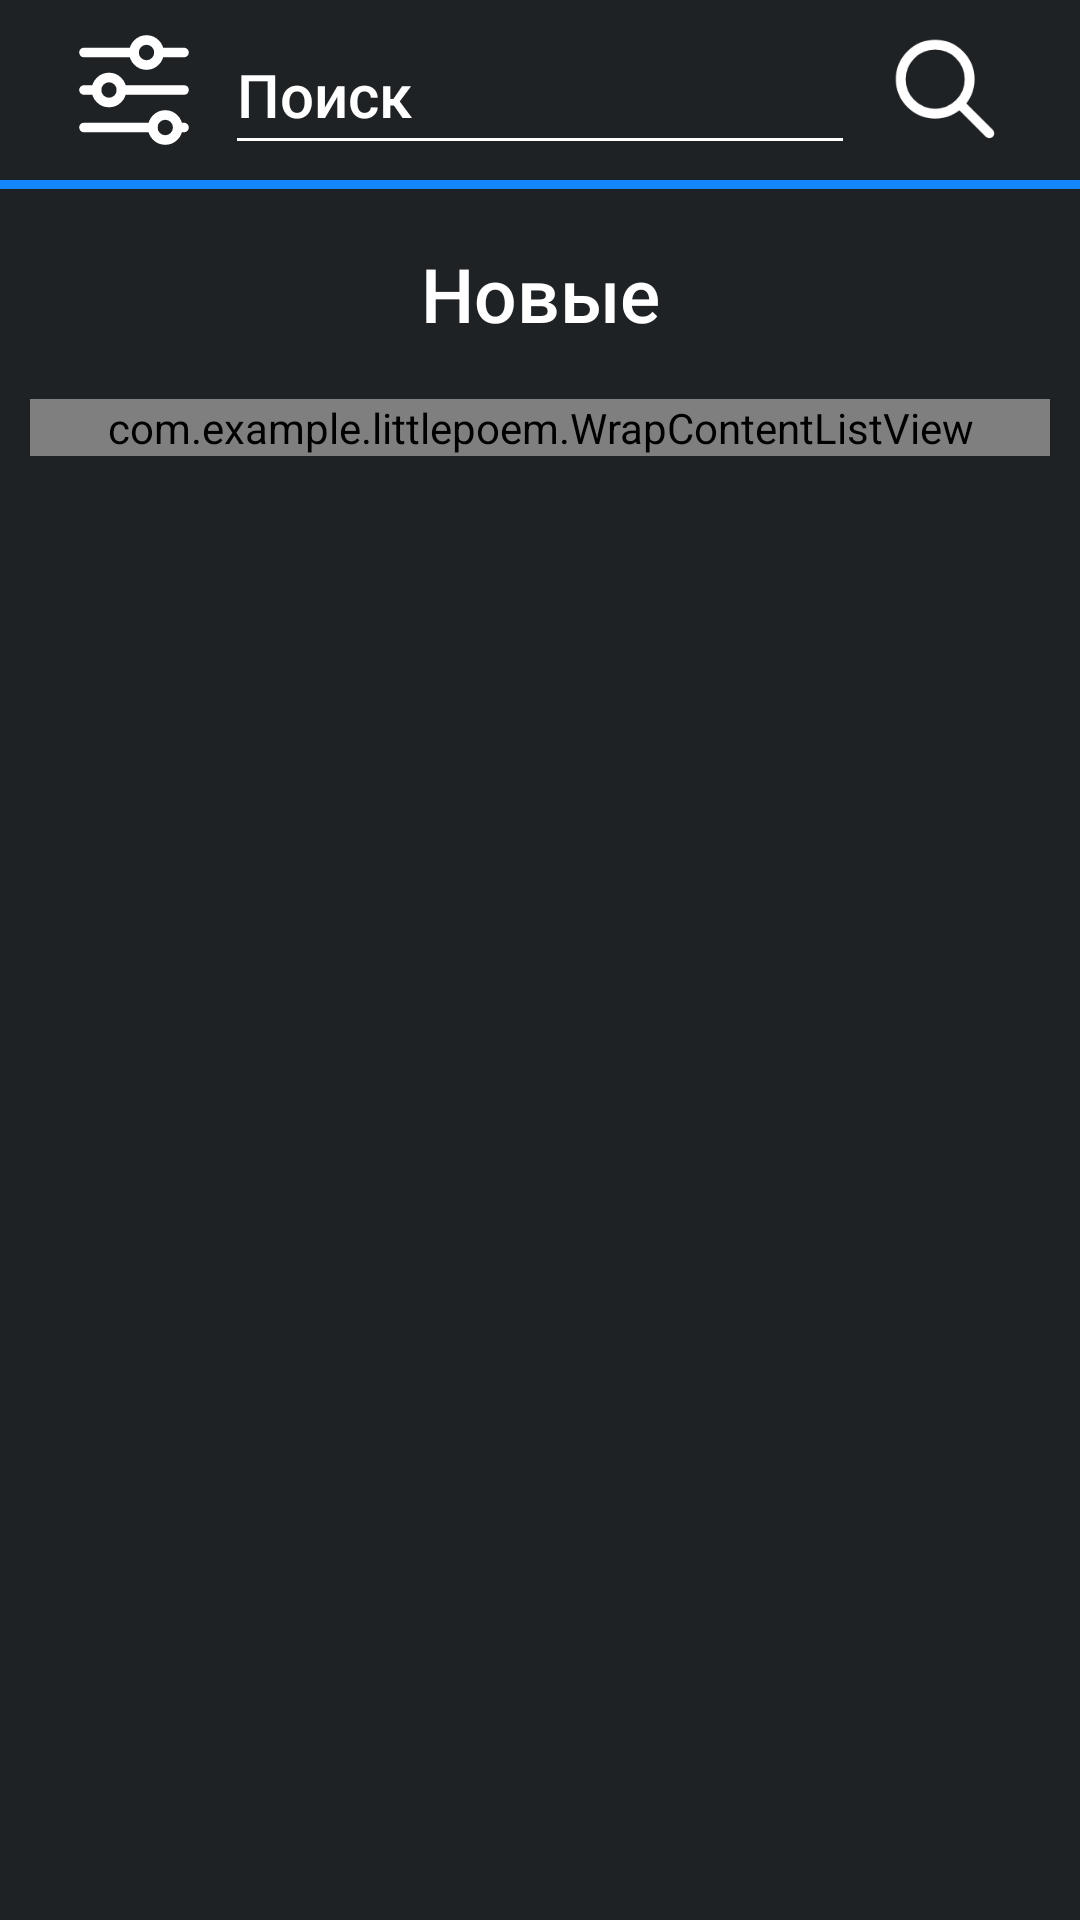

Icons on this 1080px x 1920px Android screen, each with its box as Rect(x1, y1, x2, y2):
filter: Rect(79, 35, 189, 145)
